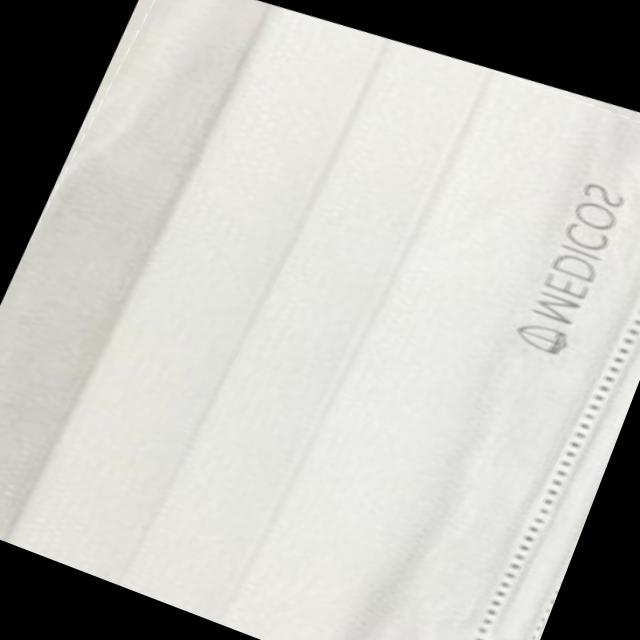others: (0, 0, 640, 640)
